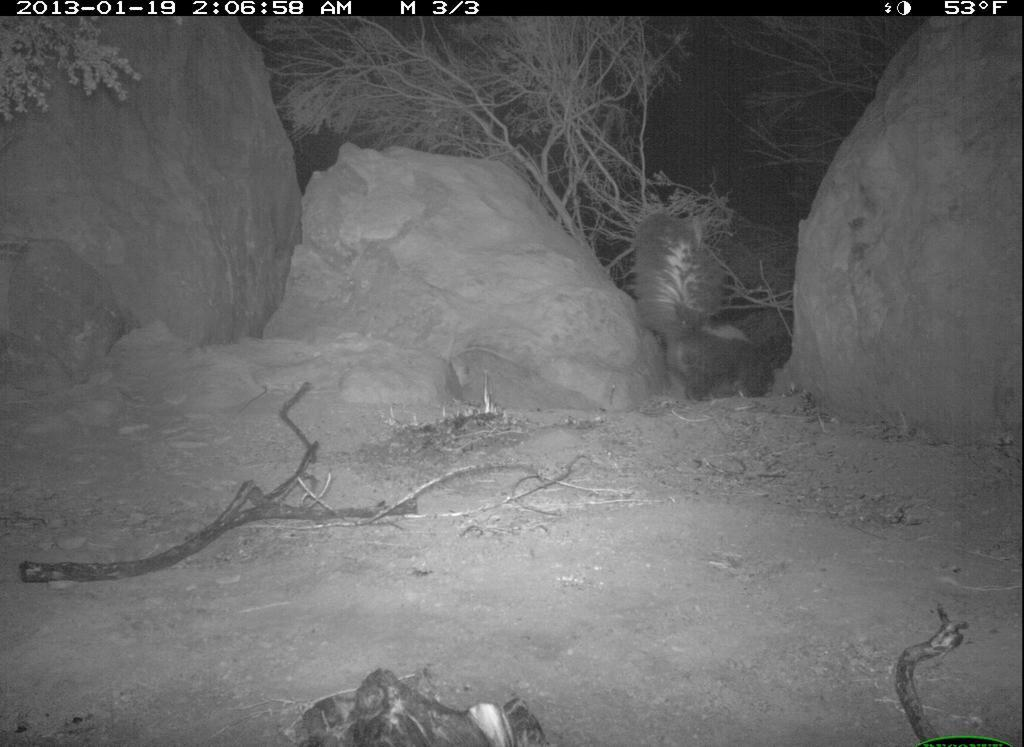skunk: (603, 208, 816, 420)
